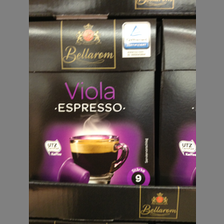chocolate: (29, 21, 158, 186)
